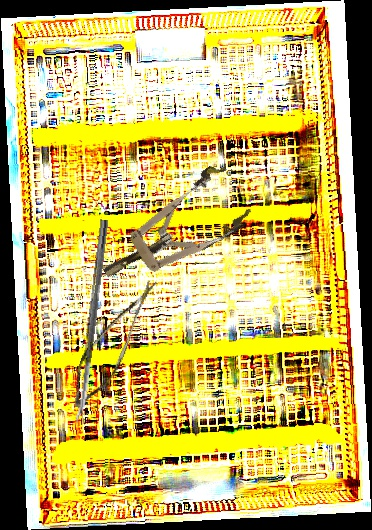Micro Scissor: (65, 264, 158, 419)
Speculum: (86, 159, 258, 302)
Surgical Spoon: (74, 219, 109, 424)
